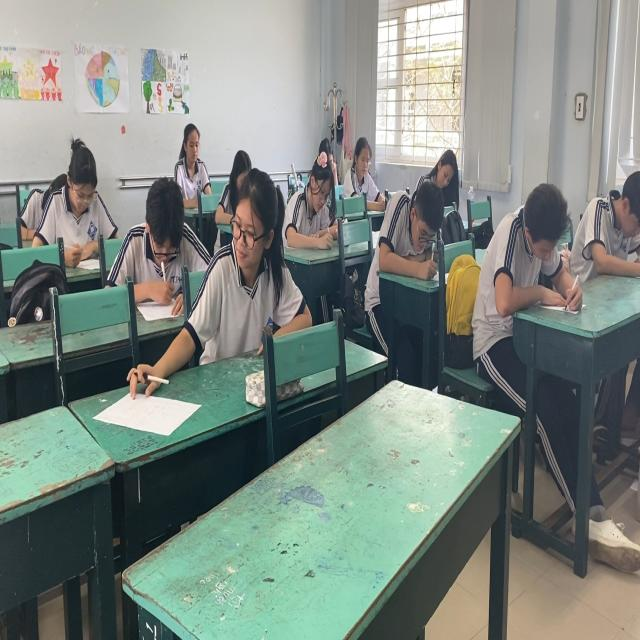cheating: (202, 158, 291, 359)
not_cheating: (122, 169, 215, 310), (480, 183, 584, 300), (42, 130, 114, 262), (374, 183, 450, 289), (283, 137, 342, 244), (590, 162, 640, 271), (172, 120, 215, 192), (346, 133, 380, 200), (423, 148, 460, 203)
